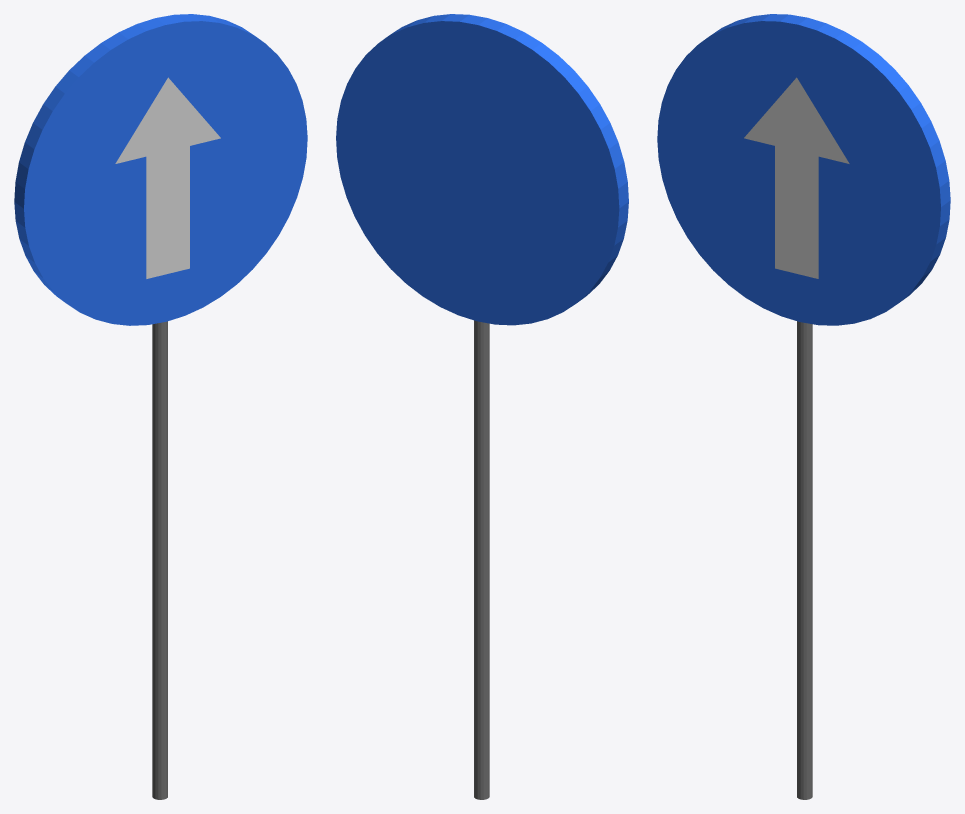
The model's file is signs circle blue white arrow up.fbx.
The picture shows the model from 3 angles, left to right: view 1: azimuth 30°, elevation 25°; view 2: azimuth 150°, elevation 25°; view 3: azimuth 330°, elevation 25°; orthographic projection.
Visible parts, largest first — view 1: Cube.012; view 2: Cube.012; view 3: Cube.012.
Part boxes in pixels (bbox=[...]): Cube.012: bbox=[14, 14, 307, 799]; Cube.012: bbox=[336, 14, 628, 799]; Cube.012: bbox=[657, 14, 950, 799].
Size of the model in its own units: 172 by 12.63 by 450.
